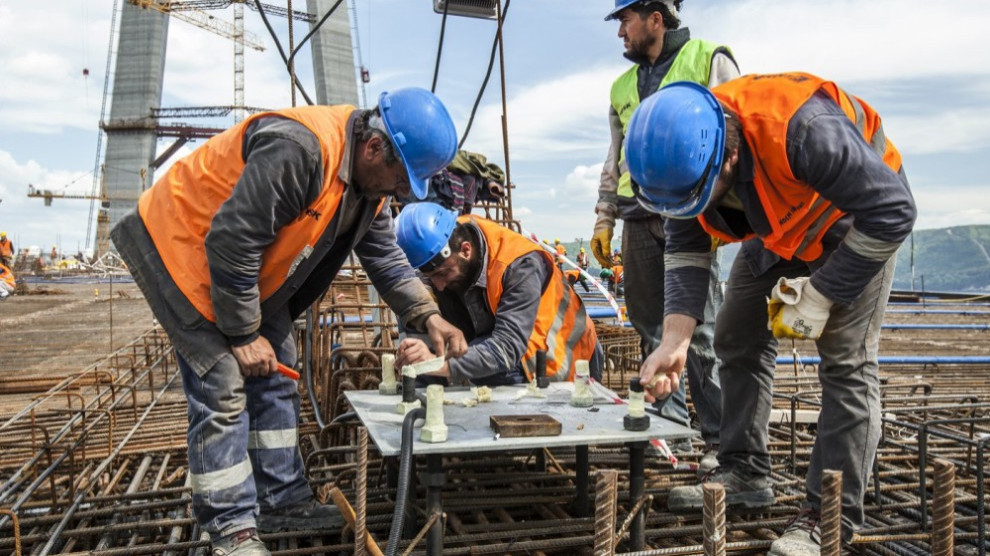With Helmet: (615, 75, 731, 236), (349, 84, 464, 201)
